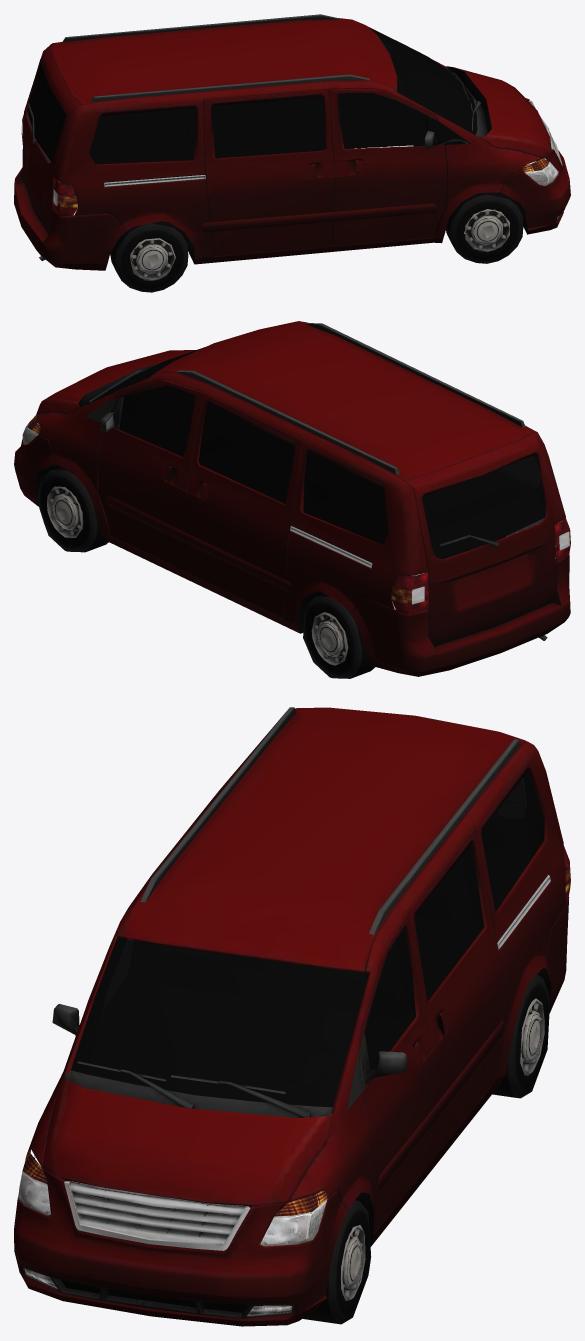
File: minivan_lod.glb
The picture shows the model from 3 angles, top to bottom: view 1: azimuth 30°, elevation 25°; view 2: azimuth 150°, elevation 25°; view 3: azimuth 270°, elevation 25°; orthographic projection. The views are drawn at different scales.
Parts seen in each view (by area): view 1: minivan body_Body_0, minivan body_Glass_0, Wheel_D_Wheel_0, minivan body_Optics_0; view 2: minivan body_Body_0, minivan body_Glass_0, Wheel_D_Wheel_0, minivan body_Optics_0; view 3: minivan body_Body_0, minivan body_Glass_0, Wheel_D_Wheel_0, minivan body_Optics_0.
Part boxes in pixels (<box>): minivan body_Body_0: <box>14,14,570,270</box>; minivan body_Glass_0: <box>27,27,477,164</box>; Wheel_D_Wheel_0: <box>110,143,523,292</box>; minivan body_Optics_0: <box>21,114,558,217</box>; minivan body_Body_0: <box>14,321,570,676</box>; minivan body_Glass_0: <box>91,347,545,559</box>; Wheel_D_Wheel_0: <box>37,466,479,678</box>; minivan body_Optics_0: <box>22,415,570,614</box>; minivan body_Body_0: <box>14,707,569,1326</box>; minivan body_Glass_0: <box>71,770,544,1107</box>; Wheel_D_Wheel_0: <box>42,974,550,1324</box>; minivan body_Optics_0: <box>18,845,570,1315</box>.
Bounding box in the file's own units: 4.62 × 1.75 × 2.81.
4 materials, 3 textured.
